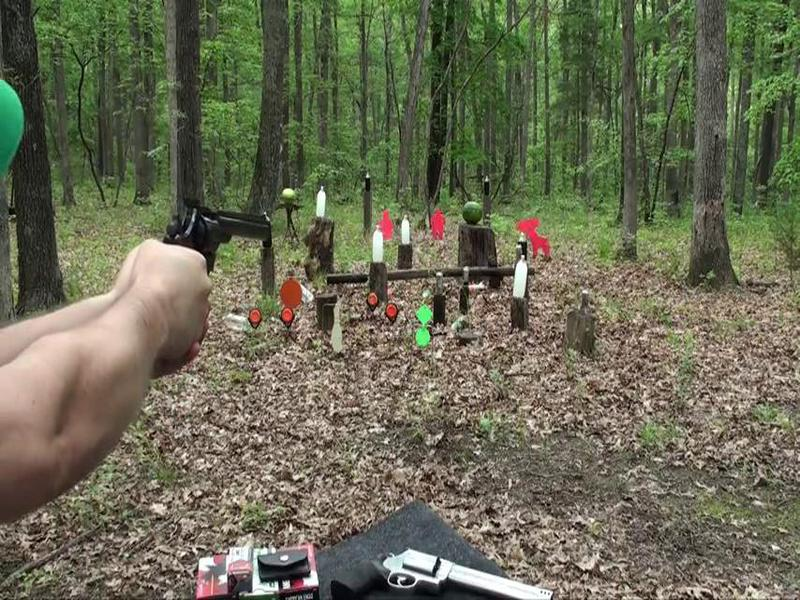Revolver: (158, 191, 283, 299)
